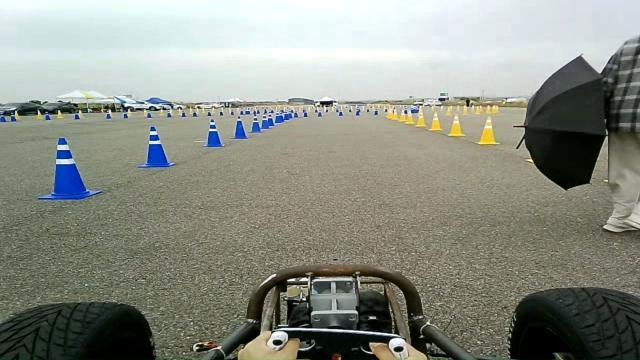blue cone: (37, 137, 103, 200), (137, 126, 176, 168), (202, 118, 225, 148), (231, 116, 249, 139), (249, 115, 263, 133)
yellow cone: (474, 115, 500, 145), (446, 114, 466, 136), (428, 111, 443, 131), (415, 114, 426, 127), (405, 111, 414, 124), (398, 110, 407, 122), (386, 109, 396, 119)
